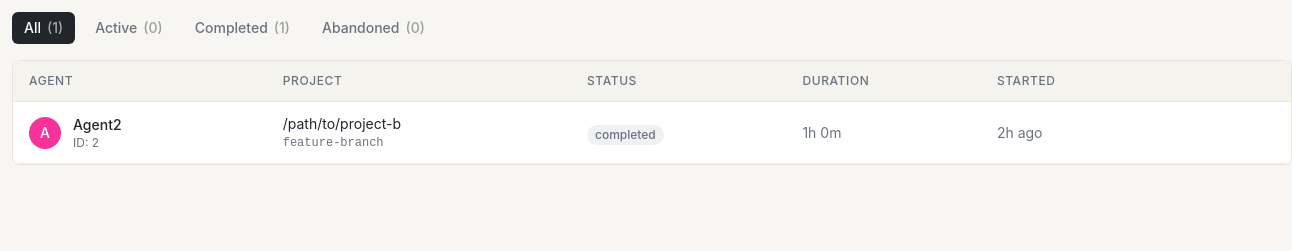
Test: SessionList › shows filtered empty state
This screenshot has width=1292, height=251.
// Filter to active.
Click the button "Active(0)" at (129,28), box [83, 12, 175, 44]
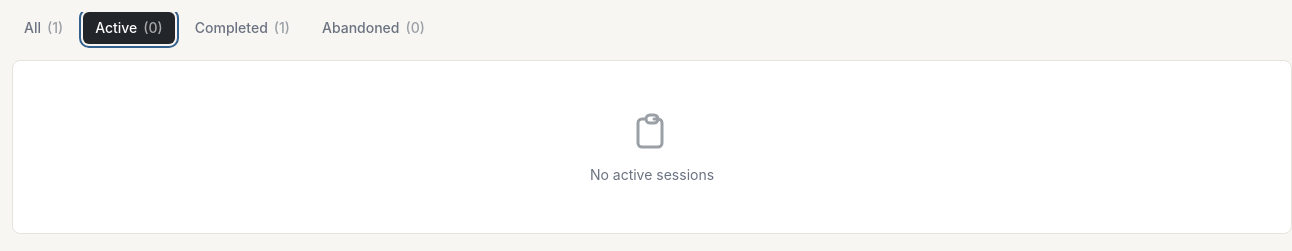
Check: the text "No active sessions" is shown, box [590, 166, 714, 183]
